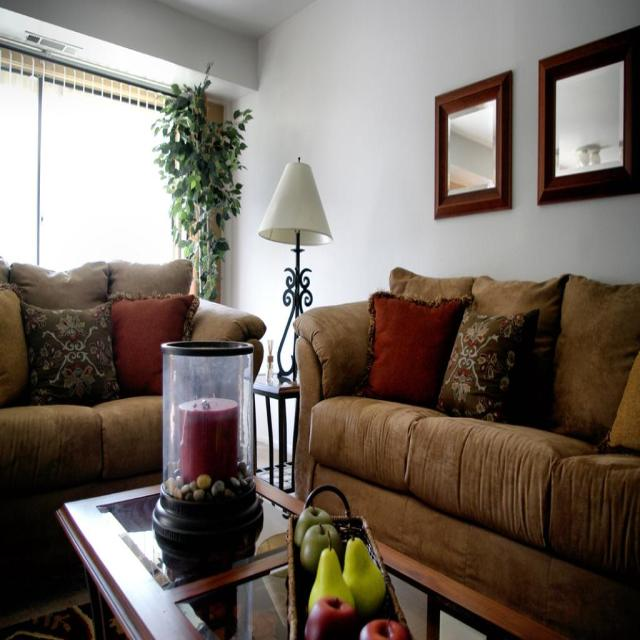apple: (295, 497, 339, 577), (304, 592, 360, 640), (356, 613, 410, 640)
pear: (306, 524, 354, 615), (342, 518, 384, 612)
